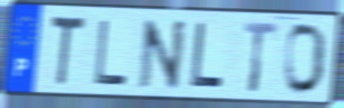L: (188, 20, 225, 92), (93, 18, 130, 88)
N: (137, 18, 189, 92)
O: (282, 21, 329, 97)
T: (48, 12, 87, 90), (241, 19, 280, 95)
